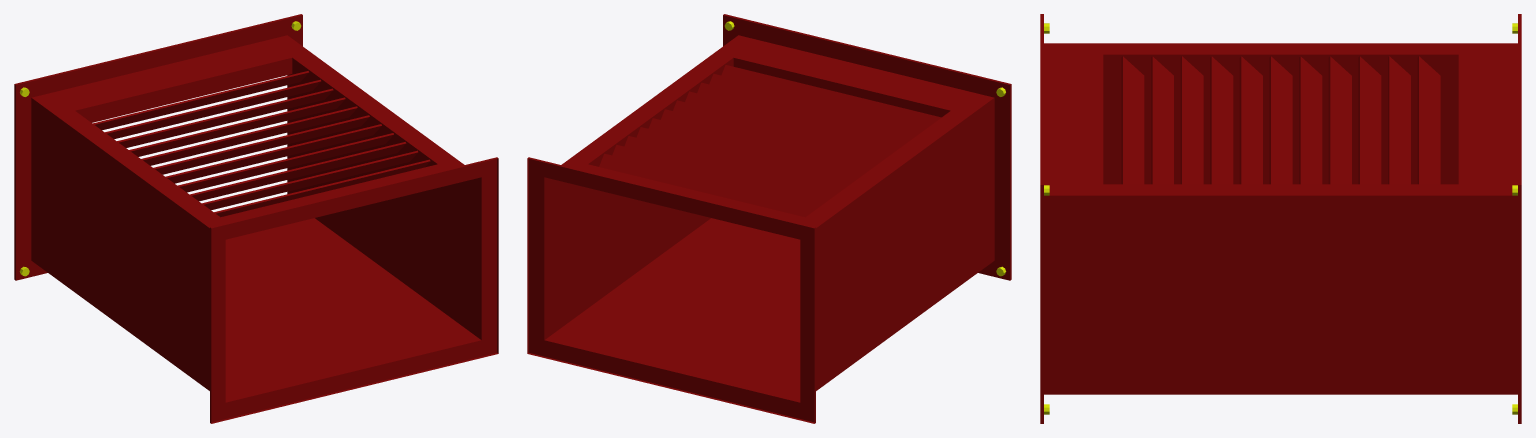
File: fbx_Pipe_2_V1.0.fbx
The picture shows the model from 3 angles, left to right: view 1: azimuth 30°, elevation 25°; view 2: azimuth 150°, elevation 25°; view 3: azimuth 270°, elevation 25°; orthographic projection. The views are drawn at different scales.
Visible parts, largest first — view 1: pCube163; view 2: pCube163; view 3: pCube163.
Part boxes in pixels (left/top/right/bottom): pCube163: left=14, top=14, right=498, bottom=423; pCube163: left=527, top=14, right=1011, bottom=423; pCube163: left=1040, top=14, right=1521, bottom=423.
Bounding box in the file's own units: 148 × 96 × 175.
